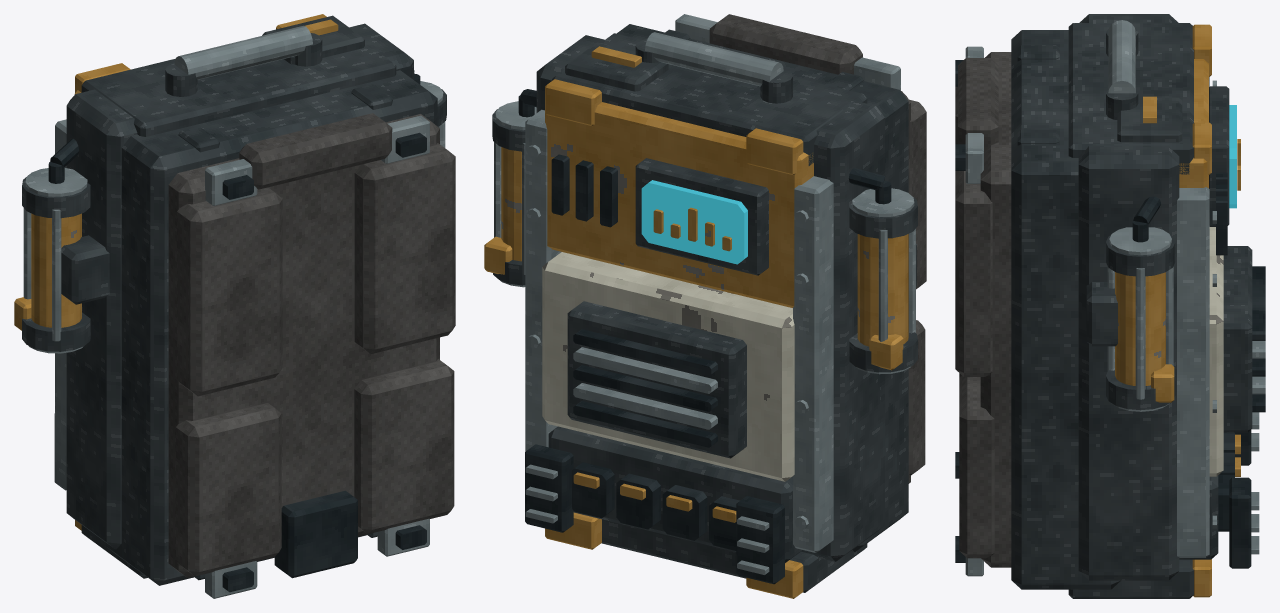
Rendered from backpack_utility.glb.
3 views of the same model, side by side, from view 1: azimuth 30°, elevation 25°; view 2: azimuth 150°, elevation 25°; view 3: azimuth 270°, elevation 25° (orthographic).
Visible parts, largest first — view 1: backpack_utility; view 2: backpack_utility; view 3: backpack_utility.
Part boxes in pixels (x1,y1,x2,y2): backpack_utility: [14, 14, 455, 598]; backpack_utility: [484, 14, 926, 598]; backpack_utility: [955, 14, 1265, 598].
Bounding box in the file's own units: 0.4162 × 0.4645 × 0.268.
Materials: 7 (6 with a texture image).
